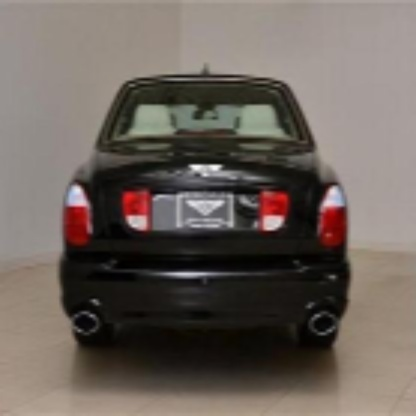Vehicle: (59, 65, 353, 356)
